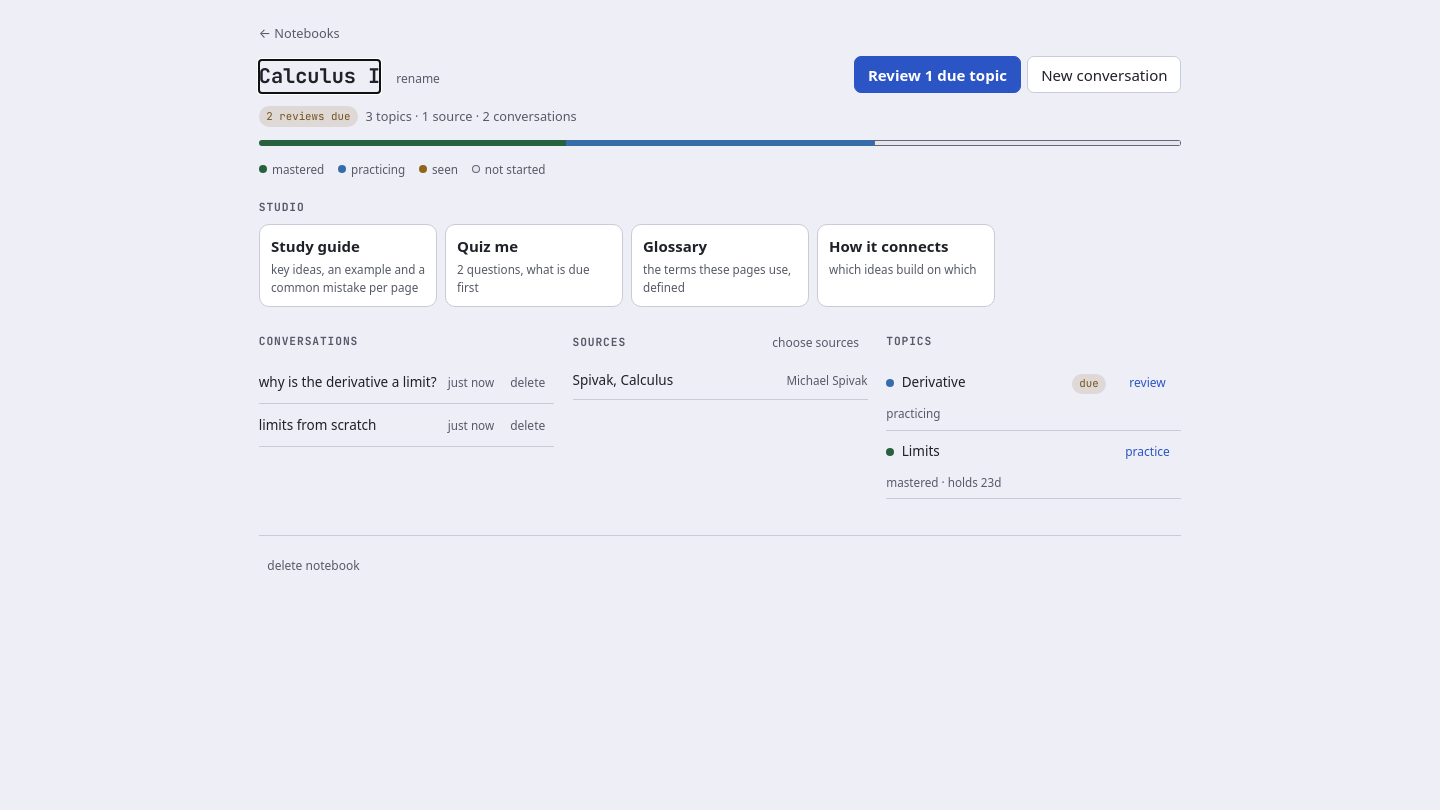
Test: NotebookView › deletes a conversation only after the confirmation, then reloads
Click the button with aria-label "Delete “limits from scratch”" at (528, 425), box [502,411,554,439]
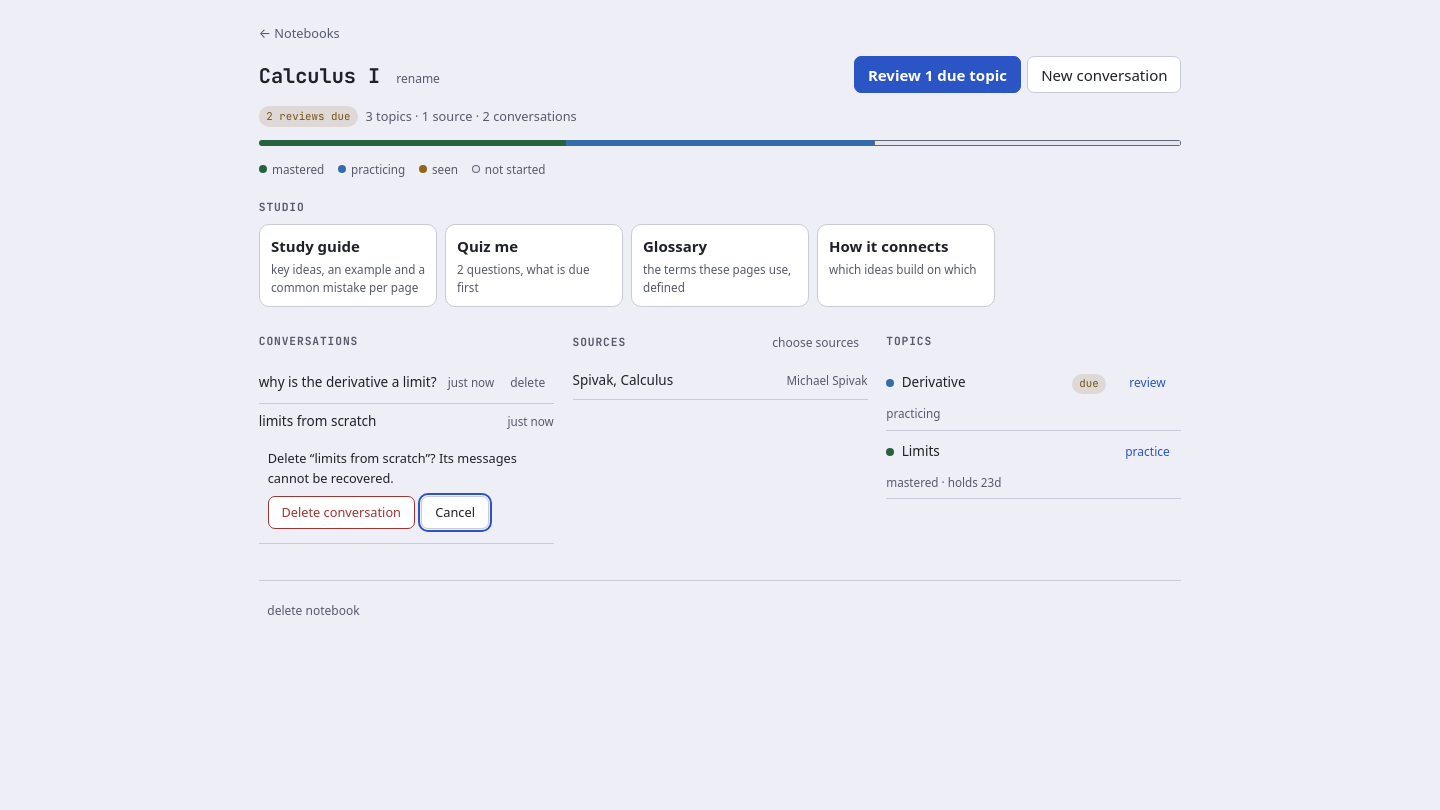
Click the button "Delete conversation" at (341, 513), box [268,496,415,529]
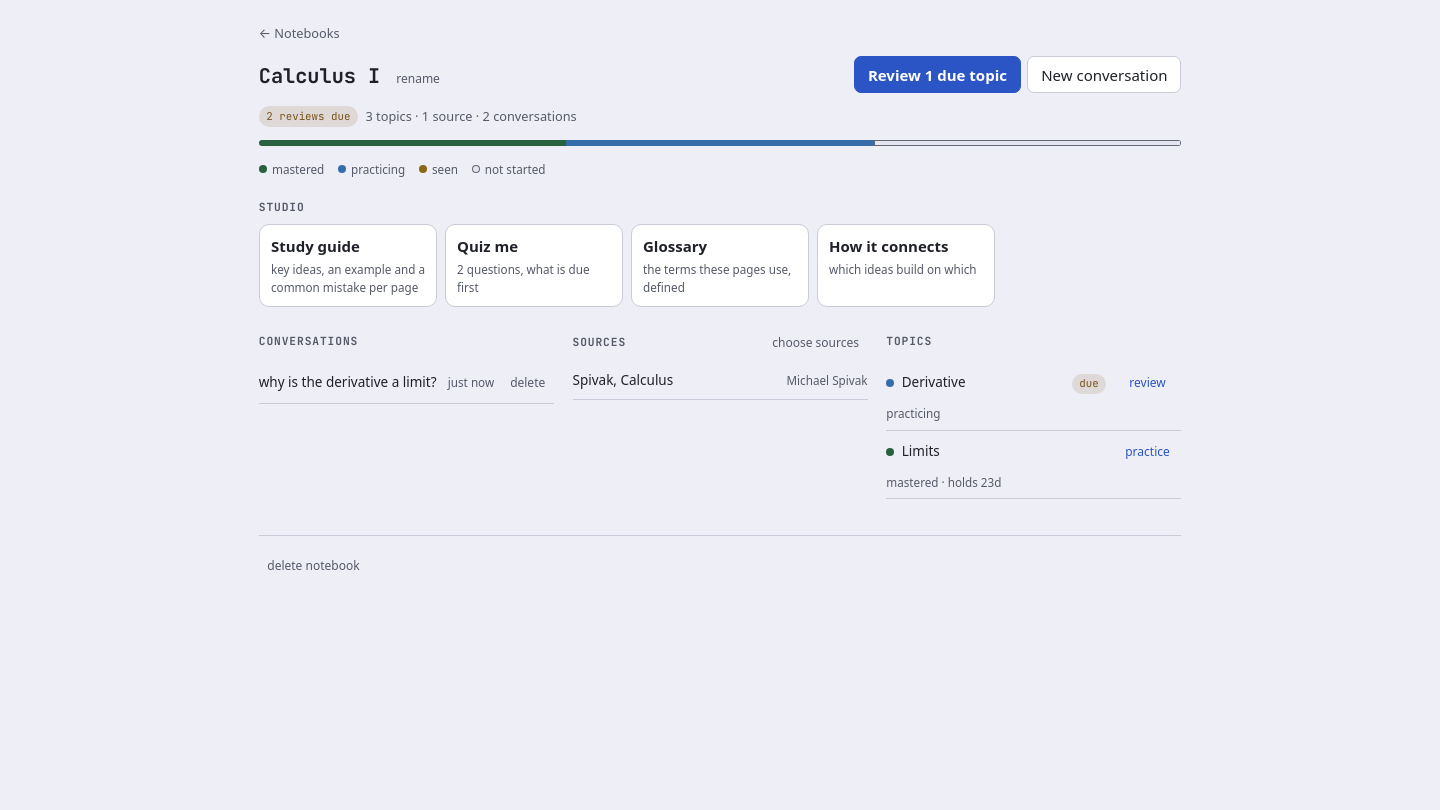
expect the link "why is the derivative a limit?" is shown: met, box [259,372,440,394]
expect the link "limits from scratch" is gone: met
